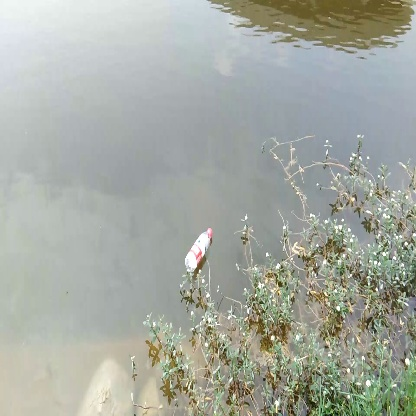bottle: (182, 224, 218, 279)
